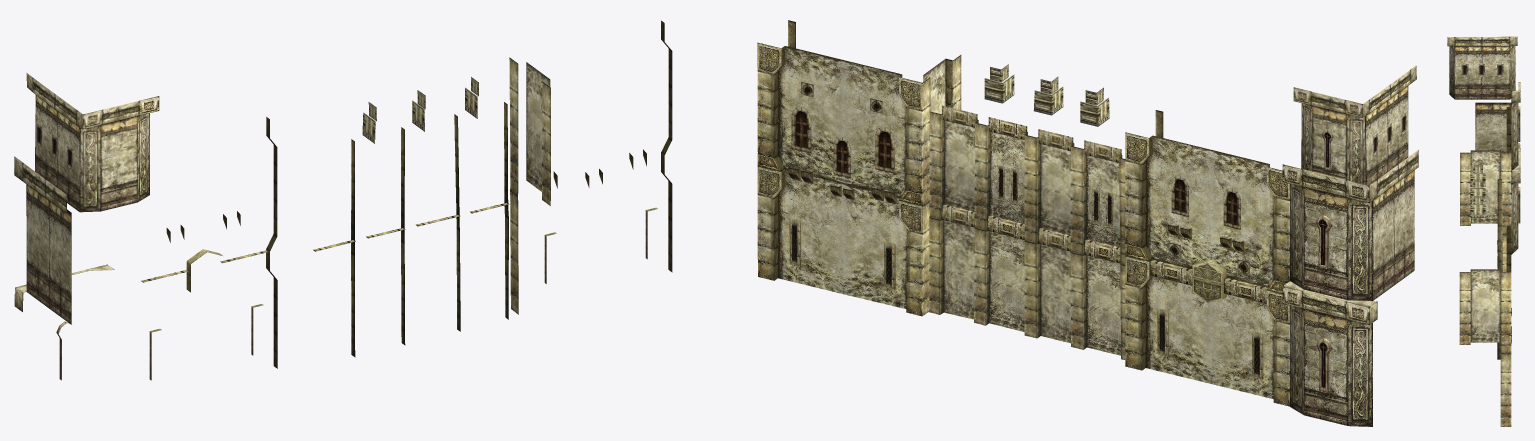
File: OZ_09_wv_bldg01BA.glb
The picture shows the model from 3 angles, left to right: view 1: azimuth 30°, elevation 25°; view 2: azimuth 150°, elevation 25°; view 3: azimuth 270°, elevation 25°; orthographic projection. The views are drawn at different scales.
Visible parts, largest first — view 1: OM_09_wv_bldg01BA; view 2: OM_09_wv_bldg01BA; view 3: OM_09_wv_bldg01BA.
Boxes of the visible parts, x1=… form: OM_09_wv_bldg01BA: x1=14, y1=20, x2=672, y2=380; OM_09_wv_bldg01BA: x1=757, y1=20, x2=1418, y2=426; OM_09_wv_bldg01BA: x1=1447, y1=36, x2=1520, y2=426.
Bounding box in the file's own units: 30.7 × 15.42 × 4.76.
Materials: 6 (6 with a texture image).
